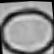no answer: (0, 3, 54, 54)
